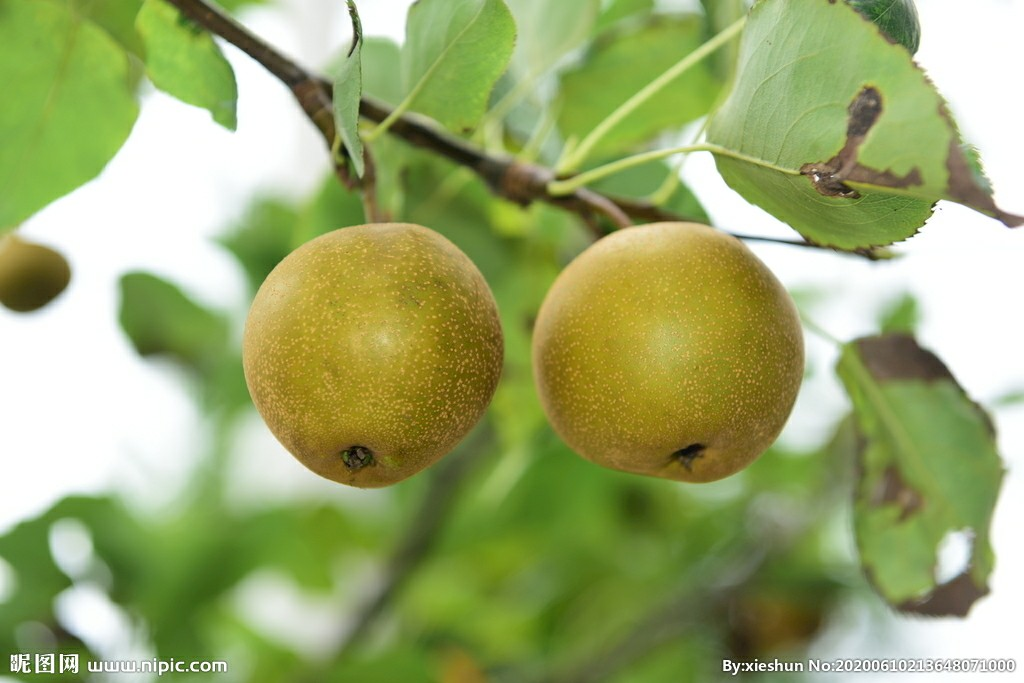pear: (530, 221, 804, 484), (244, 225, 505, 487)
